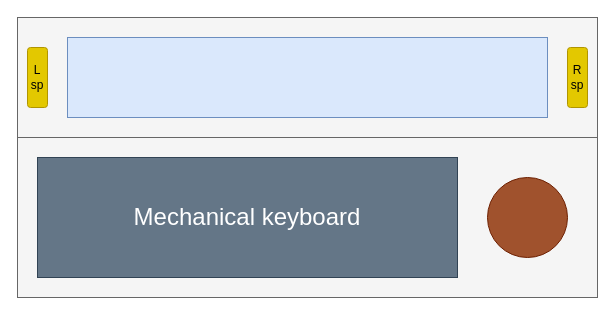
Image size: 615x315. Some labels were removed from this diagram. Here are the shapes that lost their labels. From the top down, the box of each, then its label:
(66, 36, 548, 118): IPS display
(486, 176, 568, 258): Trackball
